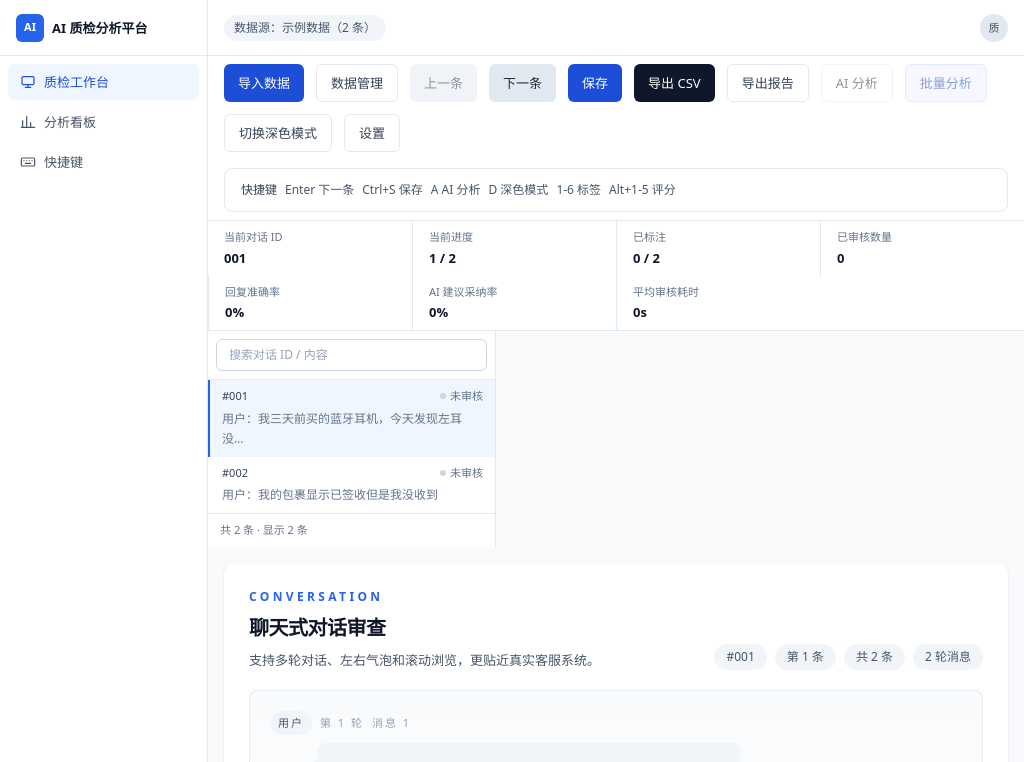
Scenario: A. 设置保存与运行时生效 › 保存设置后重开设置页 → 回填刚保存的 Key/模型/并发（运行时 state 已同步）
Expected: the button "导出报告" is shown, [727,64,809,102]
Click the button "设置" at [372, 133], box [344,114,400,152]
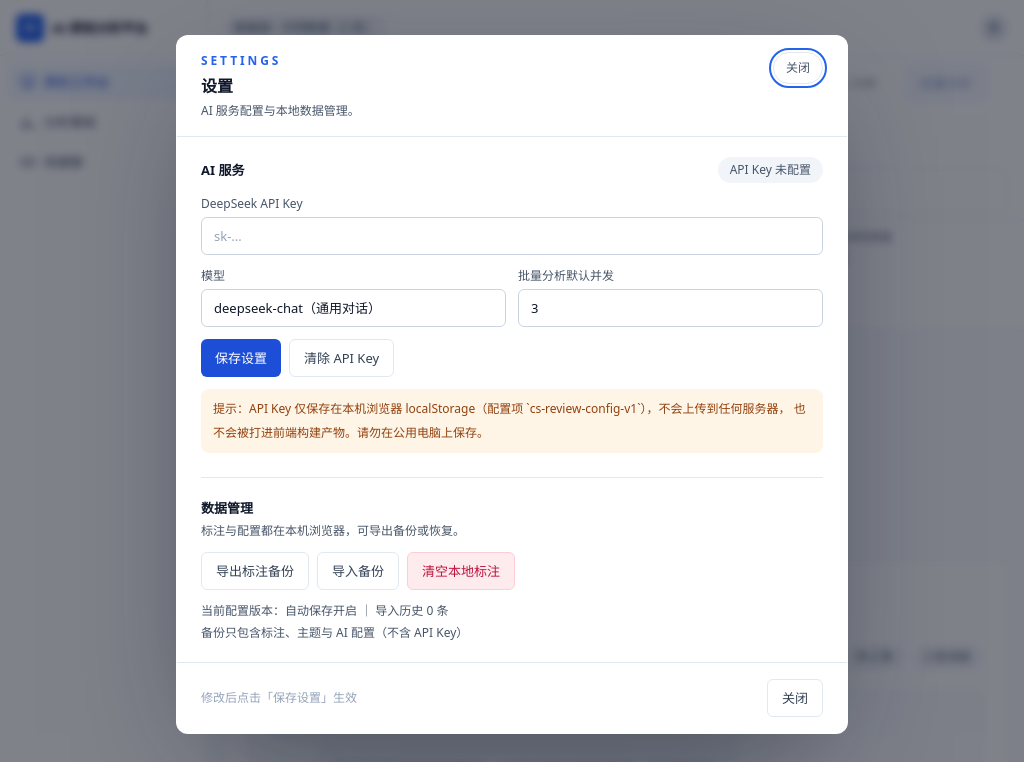
Expected: the heading "设置" is shown, [201,74,233,96]
Type "sk-runtime-sync" into the password field labelled "DeepSeek API Key" at [512, 236], box [201,216,823,254]
Select "deepseek-reasoner（推理模型）" in the dropdown labelled "模型" at [354, 308], box [201,288,506,326]
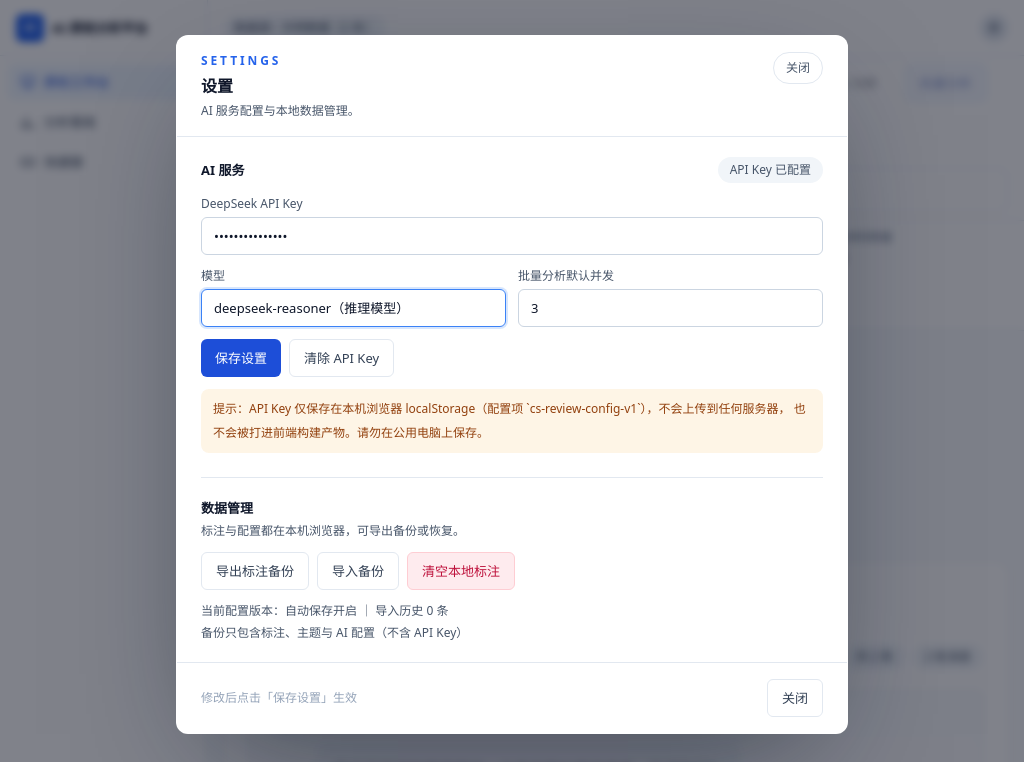
Select "2" in the dropdown labelled "批量分析默认并发" at [670, 308], box [518,288,823,326]
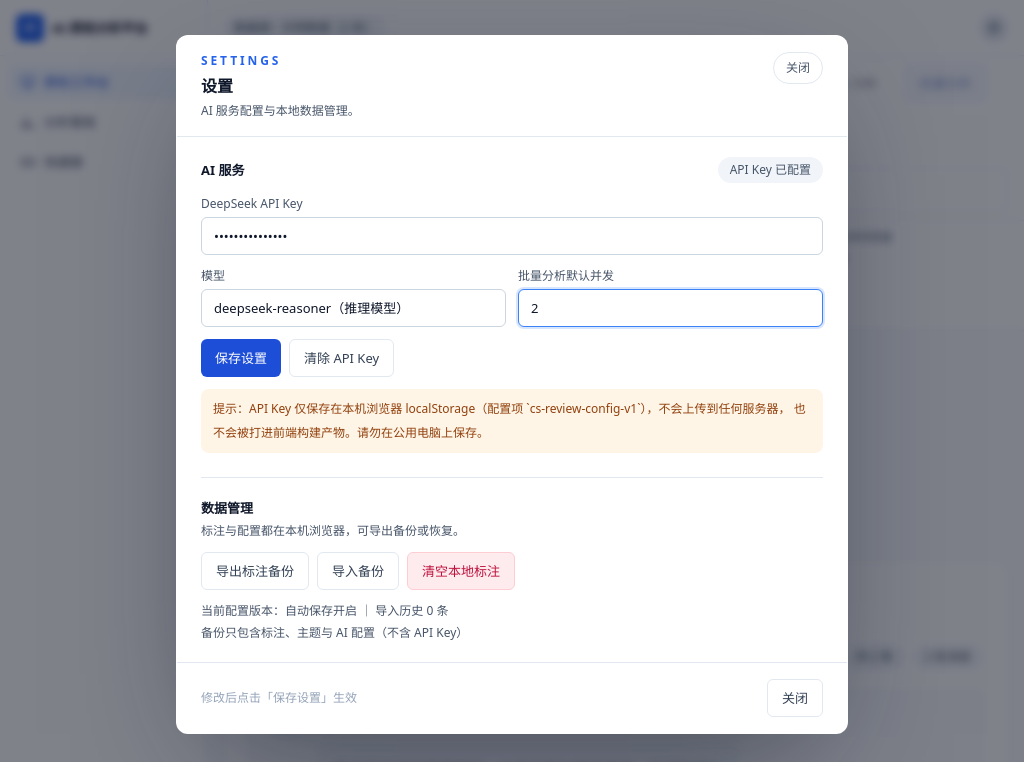
Click the button "保存设置" at [241, 358], box [201,338,281,376]
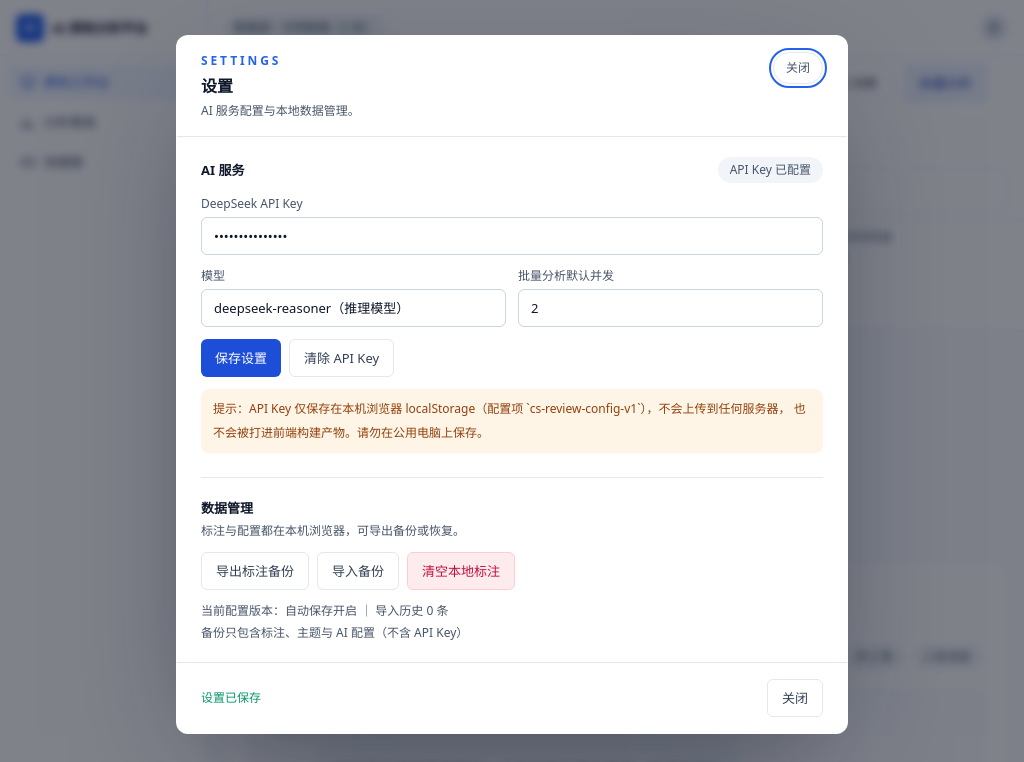
Click the button "关闭" in the row of "Settings" at [798, 68], box [773,52,823,84]
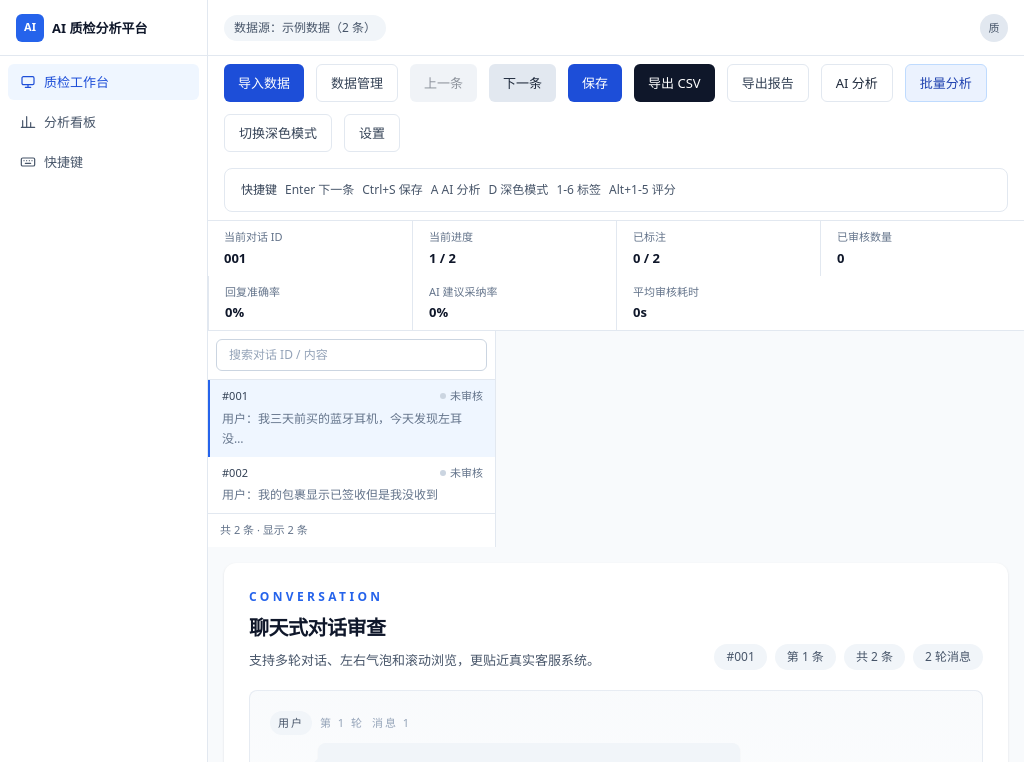
Click the button "设置" at [372, 133], box [344,114,400,152]
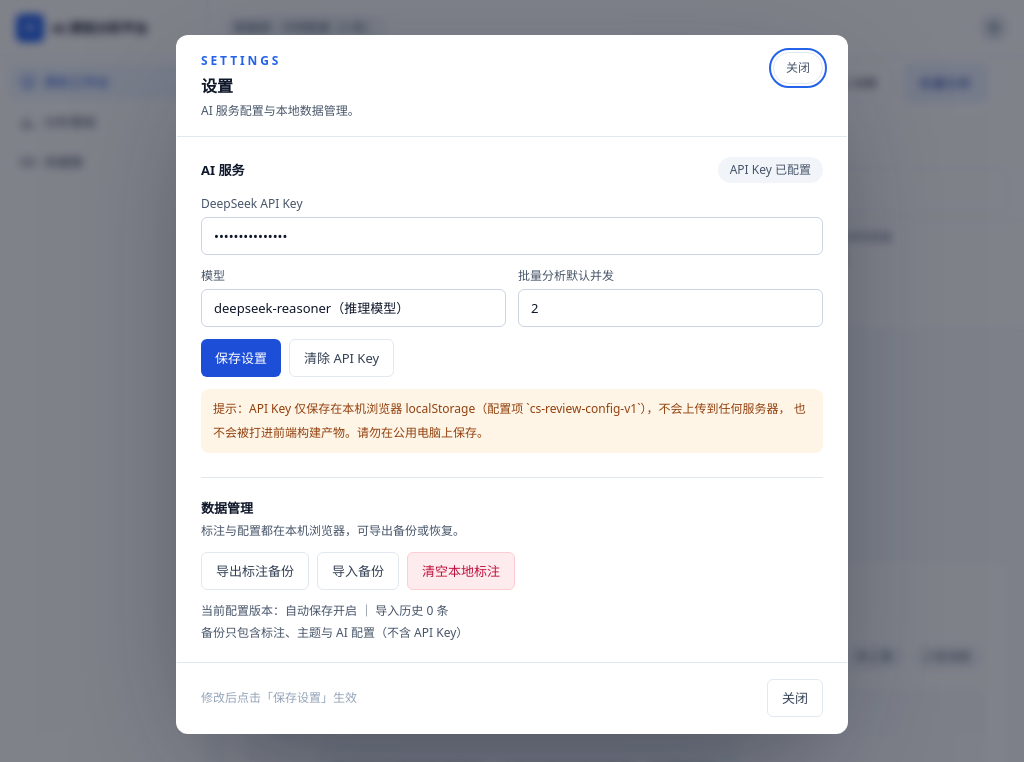
Expected: the heading "设置" is shown, [201,74,233,96]
Expected: the password field labelled "DeepSeek API Key" holds "sk-runtime-sync", [201,216,823,254]
Expected: the dropdown labelled "模型" shows "deepseek-reasoner（推理模型）", [201,288,506,326]
